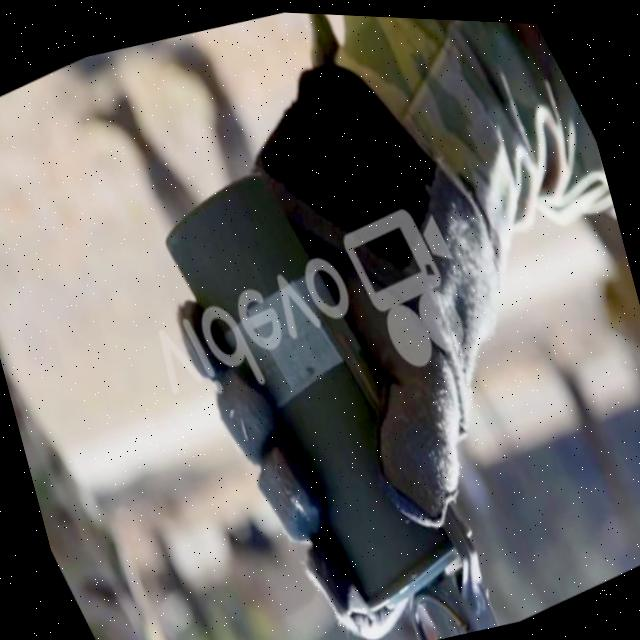grenade: (138, 126, 511, 640)
